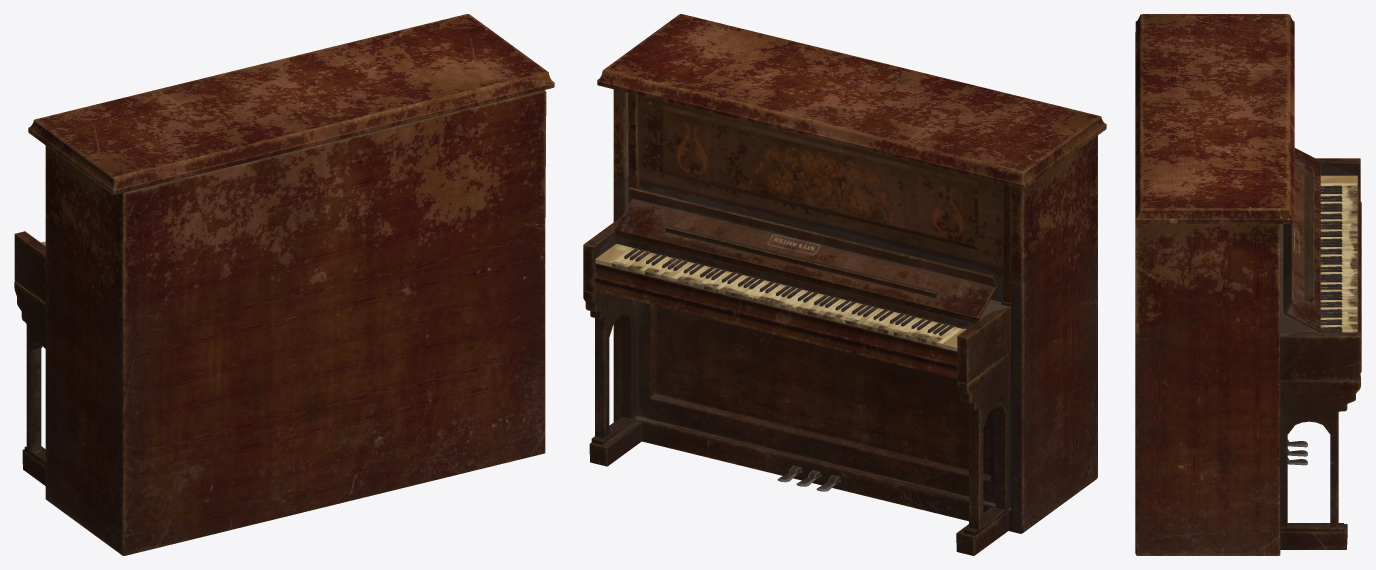
3 renders of one model, left to right at view 1: azimuth 30°, elevation 25°; view 2: azimuth 150°, elevation 25°; view 3: azimuth 270°, elevation 25°, orthographic. The views are drawn at different scales.
Parts seen in each view (by area): view 1: XI_AR_Haunted_Piano.Shape; view 2: XI_AR_Haunted_Piano.Shape; view 3: XI_AR_Haunted_Piano.Shape.
Boxes of the visible parts, x1=… form: XI_AR_Haunted_Piano.Shape: x1=14, y1=14, x2=554, y2=555; XI_AR_Haunted_Piano.Shape: x1=583, y1=14, x2=1106, y2=555; XI_AR_Haunted_Piano.Shape: x1=1135, y1=14, x2=1361, y2=555.
Bounding box in the file's own units: 1.63 × 1.34 × 0.7853.
Materials: 1 (1 with a texture image).
